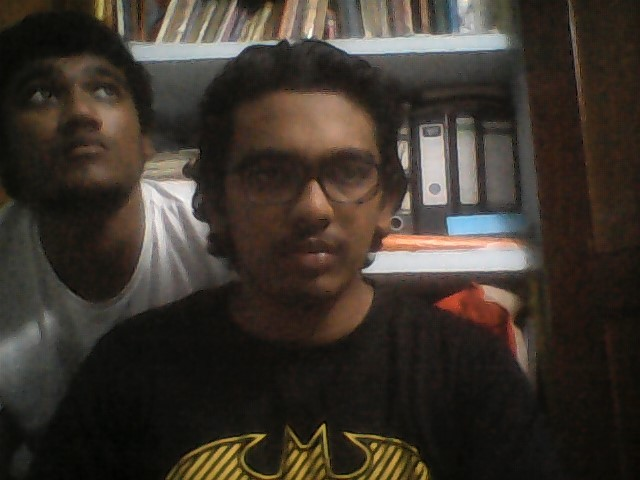person: (142, 36, 524, 457), (1, 8, 186, 361)
